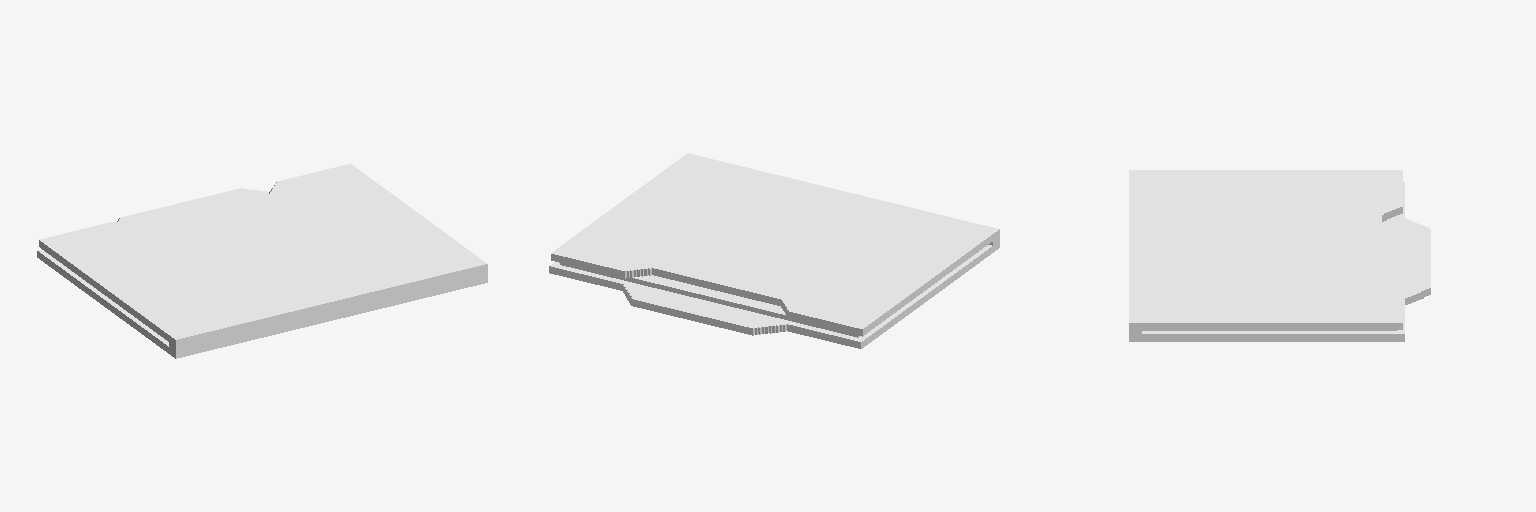
Rendered from PastaBriefingWSD.obj.
3 views of the same model, side by side, from view 1: azimuth 30°, elevation 25°; view 2: azimuth 150°, elevation 25°; view 3: azimuth 270°, elevation 25° (orthographic).
Visible parts, largest first — view 1: object 1; view 2: object 1; view 3: object 1.
Part boxes in pixels (x1,y1,x2,y2): object 1: (37, 164, 487, 358); object 1: (549, 153, 999, 348); object 1: (1129, 170, 1430, 341).
Size of the model in its own units: 13.8 by 0.8 by 11.6.